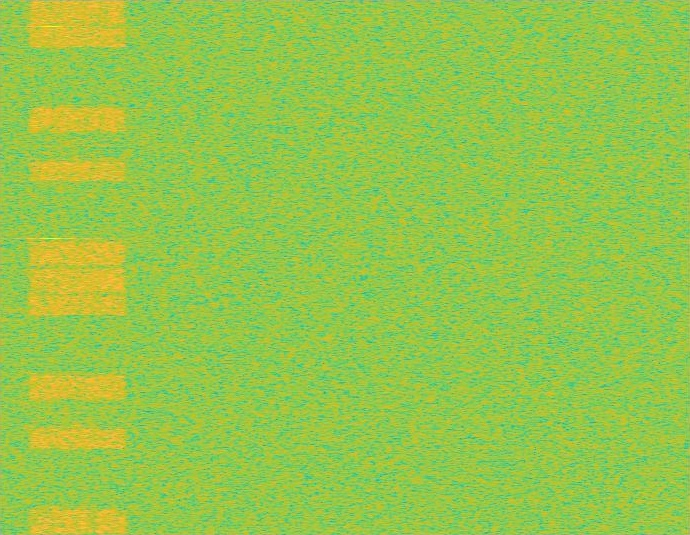LTE: (26, 0, 129, 534)
Radar: (44, 0, 58, 534)
